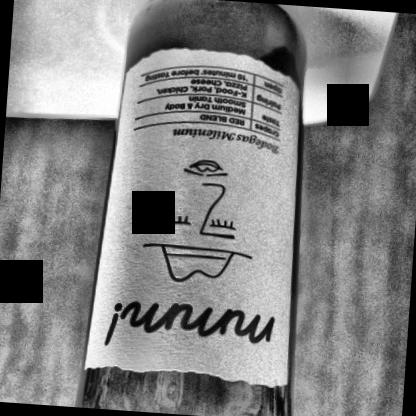umm: (93, 43, 311, 392)
